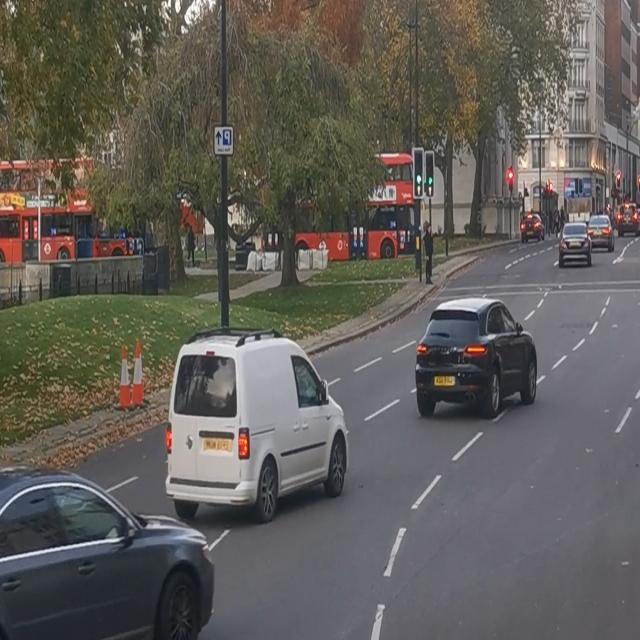Car: (0, 478, 213, 640), (164, 324, 345, 510), (416, 296, 536, 418), (557, 222, 592, 271), (585, 212, 613, 256), (517, 208, 545, 243)
